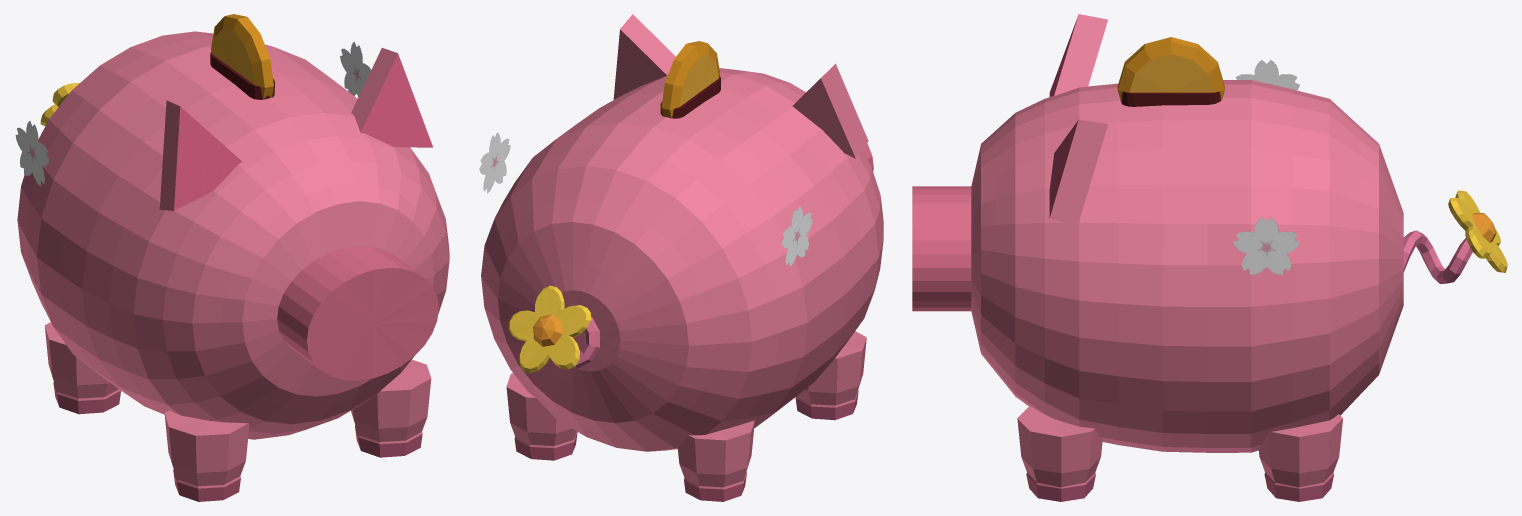
Rendered from pig_v2.glb.
The picture shows the model from 3 angles, left to right: view 1: azimuth 30°, elevation 25°; view 2: azimuth 150°, elevation 25°; view 3: azimuth 270°, elevation 25°; orthographic projection. The views are drawn at different scales.
Visible parts, largest first — view 1: pig_v2_body, pig_v2_leg_fl, pig_v2_ear_l, pig_v2_leg_fr, pig_v2_ear_r, pig_v2_leg_bl, pig_v2_top_coin, pig_v2_sakura_l, pig_v2_sakura_r, pig_v2_coin_slot, pig_v2_tail; view 2: pig_v2_body, pig_v2_tail, pig_v2_leg_bl, pig_v2_leg_fl, pig_v2_leg_br, pig_v2_ear_l, pig_v2_ear_r, pig_v2_top_coin, pig_v2_sakura_r, pig_v2_sakura_l, pig_v2_coin_slot; view 3: pig_v2_body, pig_v2_leg_fr, pig_v2_leg_br, pig_v2_top_coin, pig_v2_ear_r, pig_v2_tail, pig_v2_ear_l, pig_v2_sakura_r, pig_v2_coin_slot, pig_v2_sakura_l.
Boxes of the visible parts, x1=… form: pig_v2_body: x1=17, y1=31, x2=449, y2=439; pig_v2_leg_fl: x1=164, y1=410, x2=249, y2=501; pig_v2_ear_l: x1=159, y1=100, x2=242, y2=210; pig_v2_leg_fr: x1=351, y1=359, x2=431, y2=457; pig_v2_ear_r: x1=351, y1=48, x2=433, y2=147; pig_v2_leg_bl: x1=44, y1=322, x2=120, y2=414; pig_v2_top_coin: x1=211, y1=14, x2=273, y2=99; pig_v2_sakura_l: x1=15, y1=121, x2=49, y2=186; pig_v2_sakura_r: x1=340, y1=42, x2=370, y2=96; pig_v2_coin_slot: x1=210, y1=51, x2=274, y2=99; pig_v2_tail: x1=40, y1=83, x2=79, y2=126; pig_v2_body: x1=481, y1=68, x2=883, y2=451; pig_v2_tail: x1=508, y1=285, x2=599, y2=373; pig_v2_leg_bl: x1=677, y1=420, x2=754, y2=501; pig_v2_leg_fl: x1=795, y1=331, x2=866, y2=420; pig_v2_leg_br: x1=506, y1=373, x2=577, y2=460; pig_v2_ear_l: x1=792, y1=63, x2=868, y2=158; pig_v2_ear_r: x1=613, y1=14, x2=675, y2=99; pig_v2_top_coin: x1=661, y1=41, x2=720, y2=118; pig_v2_sakura_r: x1=479, y1=132, x2=510, y2=193; pig_v2_sakura_l: x1=781, y1=206, x2=812, y2=266; pig_v2_coin_slot: x1=660, y1=76, x2=720, y2=118; pig_v2_body: x1=912, y1=80, x2=1403, y2=452; pig_v2_leg_fr: x1=1017, y1=406, x2=1102, y2=501; pig_v2_leg_br: x1=1258, y1=414, x2=1342, y2=501; pig_v2_top_coin: x1=1117, y1=37, x2=1224, y2=102; pig_v2_ear_r: x1=1049, y1=119, x2=1107, y2=226; pig_v2_tail: x1=1403, y1=190, x2=1507, y2=284; pig_v2_ear_l: x1=1049, y1=14, x2=1107, y2=96; pig_v2_sakura_r: x1=1233, y1=217, x2=1299, y2=274; pig_v2_coin_slot: x1=1120, y1=91, x2=1220, y2=106; pig_v2_sakura_l: x1=1235, y1=60, x2=1299, y2=90.
Size of the model in its own units: 0.1274 by 0.1501 by 0.2.
2 materials, 2 textured.
